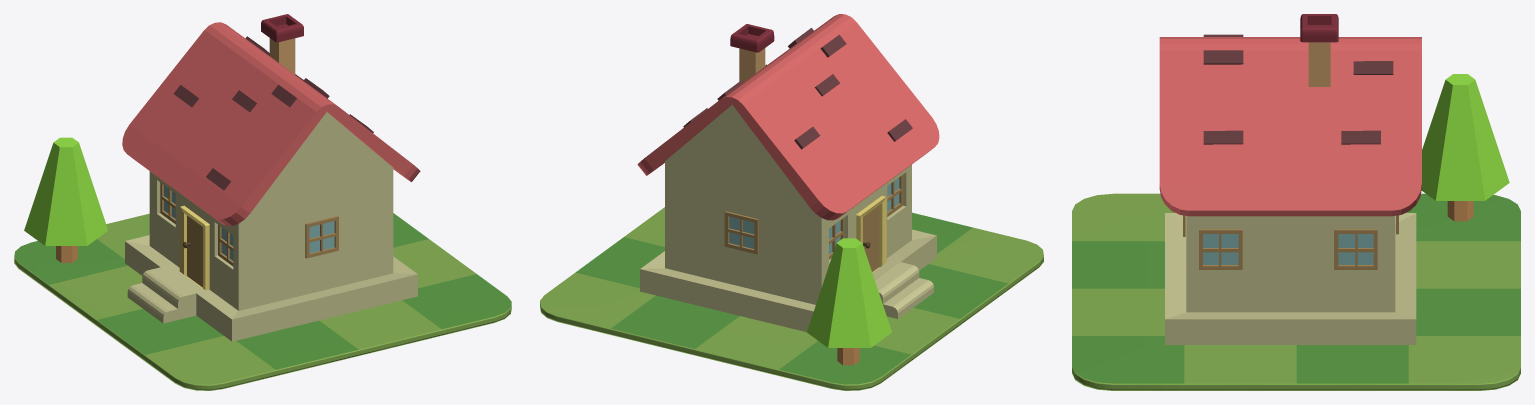
The model's file is house.glb.
3 views of the same model, side by side, from view 1: azimuth 30°, elevation 25°; view 2: azimuth 150°, elevation 25°; view 3: azimuth 270°, elevation 25° (orthographic). The views are drawn at different scales.
Parts seen in each view (by area): view 1: garden, roof, house, house.001, roof-frame, tree-crown, windows, door; view 2: garden, roof, house, roof-frame, tree-crown, windows, door; view 3: garden, roof, house, tree-crown, windows, tree-stump.
Part boxes in pixels (box(x1,y1,x2,y2)): garden: box(14, 213, 511, 390); roof: box(122, 14, 420, 226); house: box(125, 171, 417, 341); house.001: box(238, 181, 393, 310); roof-frame: box(248, 112, 393, 216); tree-crown: box(24, 137, 108, 245); windows: box(160, 182, 338, 266); door: box(179, 205, 209, 290); garden: box(540, 207, 1043, 390); roof: box(637, 14, 939, 220); house: box(640, 164, 936, 332); roof-frame: box(665, 104, 812, 210); tree-crown: box(807, 238, 891, 347); windows: box(724, 174, 903, 259); door: box(856, 196, 886, 272); garden: box(1072, 193, 1520, 390); roof: box(1159, 14, 1421, 216); house: box(1165, 213, 1416, 344); tree-crown: box(1421, 74, 1509, 200); windows: box(1183, 215, 1398, 269); tree-stump: box(1447, 201, 1473, 221).
Bounding box in the file's own units: 8.59 × 6.17 × 8.59.
